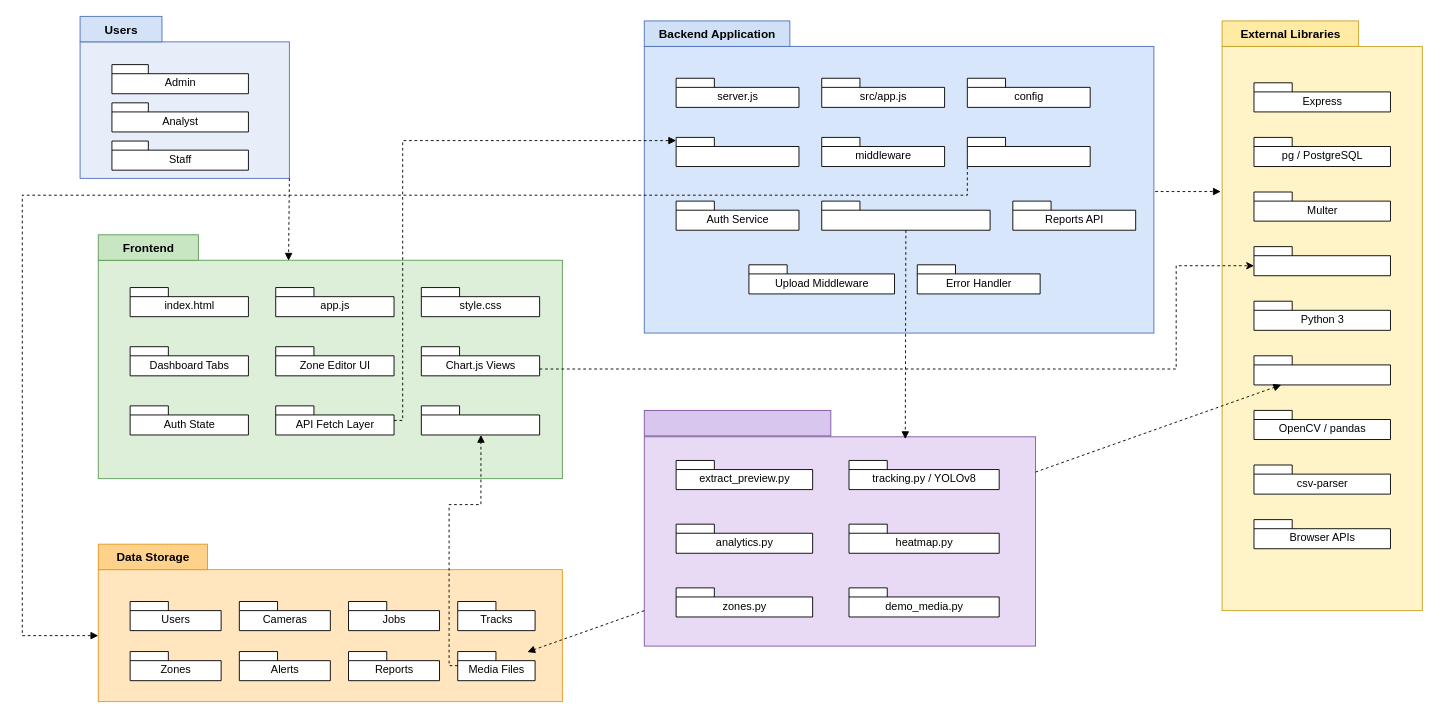
Image size: 1439x717. Some labels were removed from this diagram. The centre of each missing label's shape, as x and y in pixels:
"Chart.js" belongs at (x=1321, y=261).
"Computer Vision Processing" belongs at (x=737, y=423).
"Media Loader" belongs at (x=480, y=420).
"routes" belongs at (x=737, y=151).
"services" belongs at (x=1028, y=151).
"Ultralytics YOLOv8" belongs at (x=1321, y=370).
"Video Processing Service" belongs at (x=905, y=215).
